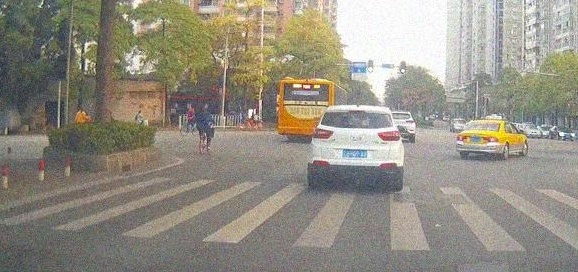L_light: (312, 127, 333, 139), (457, 135, 466, 141)
R_light: (378, 131, 400, 141), (483, 136, 498, 142)
T_light: (351, 111, 363, 113), (480, 122, 487, 124)
day-no: (308, 106, 404, 191)
day-right: (456, 120, 502, 160)
